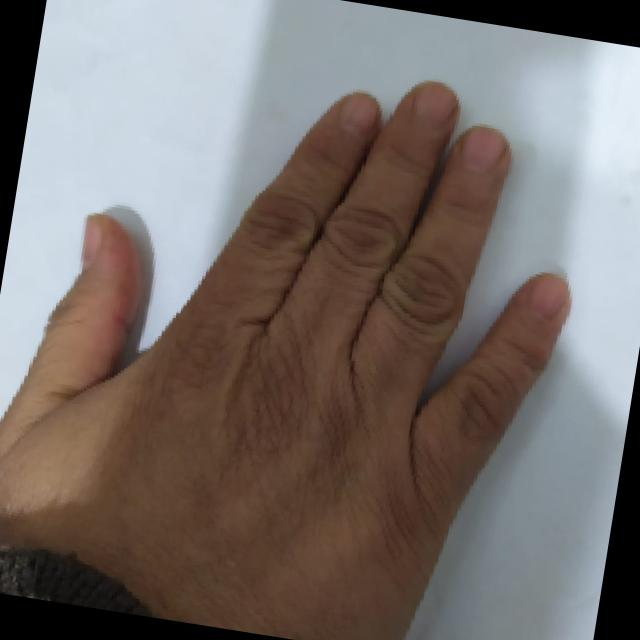Nail: (462, 127, 507, 171), (415, 81, 457, 127), (529, 274, 569, 318), (340, 92, 379, 133), (82, 215, 103, 269)
